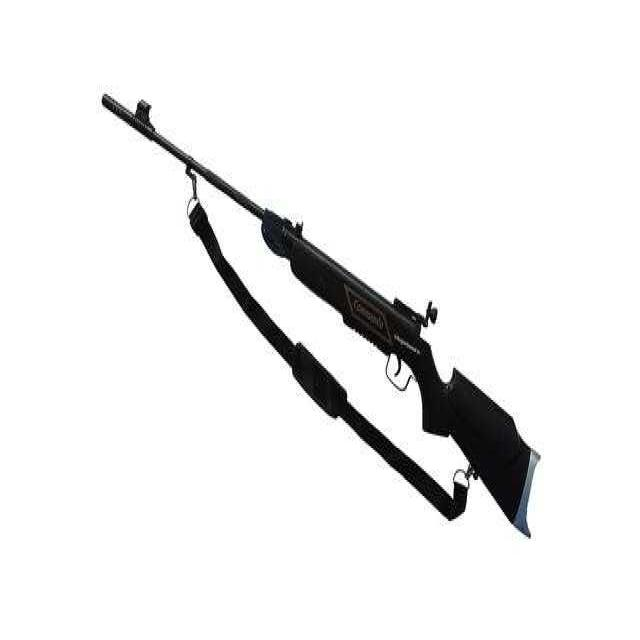heavyweapon: (94, 69, 561, 577)
